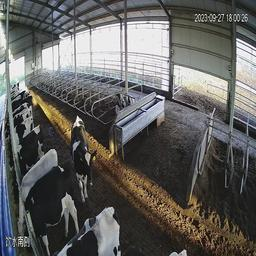cow: (23, 148, 83, 235), (53, 193, 123, 255), (69, 116, 94, 207), (6, 129, 47, 183), (6, 113, 38, 145), (6, 94, 33, 121), (116, 85, 133, 115), (6, 78, 23, 98)
